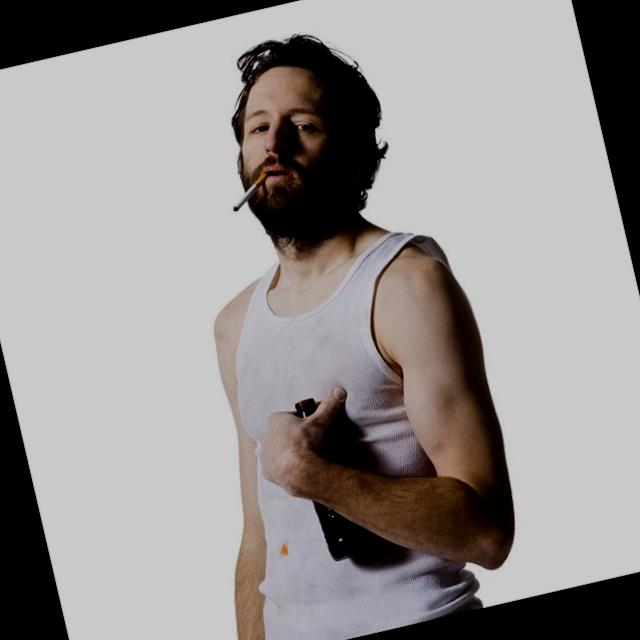smoke: (222, 166, 276, 214)
